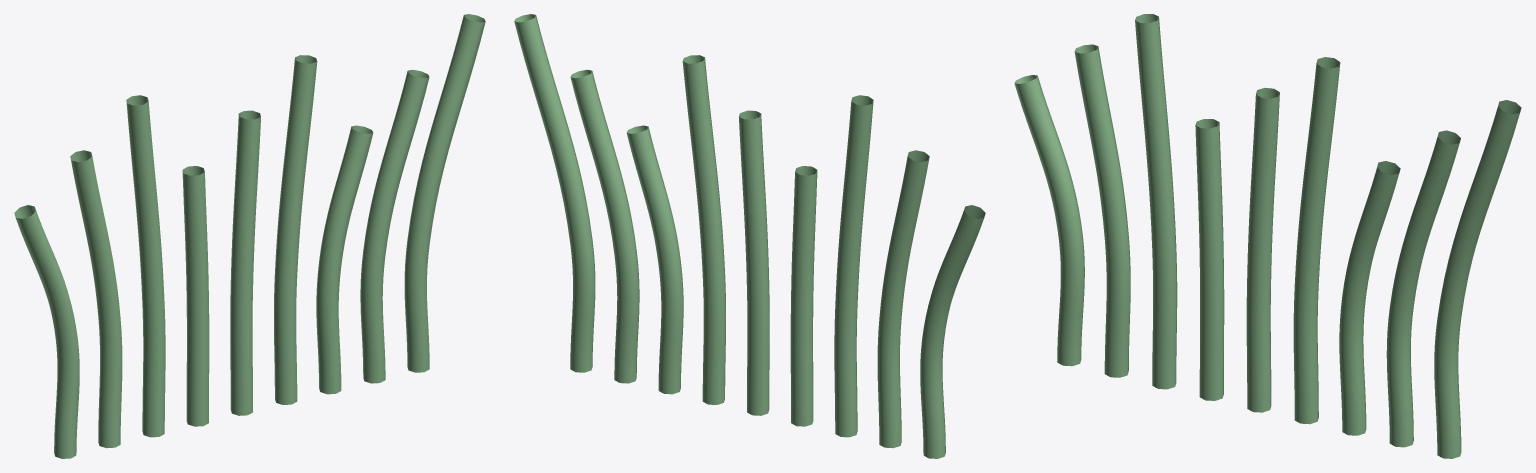
File: word-grass.glb
The picture shows the model from 3 angles, left to right: view 1: azimuth 30°, elevation 25°; view 2: azimuth 150°, elevation 25°; view 3: azimuth 330°, elevation 25°; orthographic projection. The views are drawn at different scales.
Parts seen in each view (by area): view 1: blade of grass.008, blade of grass.005, blade of grass.002, blade of grass.007, blade of grass.004, blade of grass.001, blade of grass.006, blade of grass.003, blade of grass; view 2: blade of grass.008, blade of grass.005, blade of grass.002, blade of grass.007, blade of grass.004, blade of grass.001, blade of grass.006, blade of grass.003, blade of grass; view 3: blade of grass.002, blade of grass.005, blade of grass.008, blade of grass.001, blade of grass.004, blade of grass.007, blade of grass, blade of grass.003, blade of grass.006.
Boxes of the visible parts, x1,y1,x2,y2 form: blade of grass.008: (404, 14, 485, 372); blade of grass.005: (274, 55, 317, 404); blade of grass.002: (126, 95, 165, 437); blade of grass.007: (360, 69, 429, 383); blade of grass.004: (230, 110, 260, 415); blade of grass.001: (70, 150, 122, 448); blade of grass.006: (316, 125, 373, 394); blade of grass.003: (182, 166, 209, 426); blade of grass: (14, 205, 79, 458); blade of grass.008: (514, 14, 595, 372); blade of grass.005: (682, 55, 725, 404); blade of grass.002: (834, 95, 873, 437); blade of grass.007: (570, 69, 639, 383); blade of grass.004: (739, 110, 769, 415); blade of grass.001: (877, 150, 929, 448); blade of grass.006: (626, 125, 683, 394); blade of grass.003: (790, 166, 817, 426); blade of grass: (920, 205, 985, 458); blade of grass.002: (1135, 14, 1177, 389); blade of grass.005: (1293, 57, 1340, 424); blade of grass.008: (1434, 100, 1521, 458); blade of grass.001: (1074, 44, 1130, 377); blade of grass.004: (1246, 88, 1279, 412); blade of grass.007: (1386, 130, 1460, 447); blade of grass: (1014, 75, 1084, 366); blade of grass.003: (1195, 119, 1224, 400); blade of grass.006: (1339, 161, 1400, 435).
Size of the model in its own units: 1.17 by 0.8067 by 0.05.
